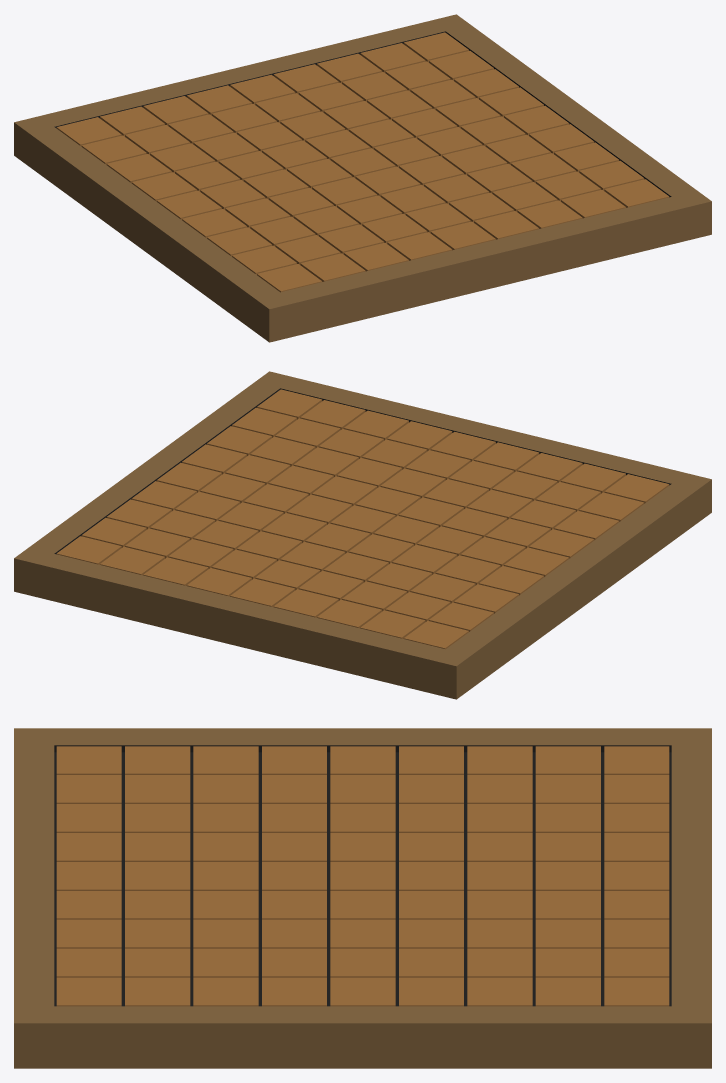
File: board.dae
3 views of the same model, one above another, from view 1: azimuth 30°, elevation 25°; view 2: azimuth 150°, elevation 25°; view 3: azimuth 270°, elevation 25° (orthographic). The views are drawn at different scales.
Visible parts, largest first — view 1: Cube_002; view 2: Cube_002; view 3: Cube_002.
Part boxes in pixels (x1,y1,x2,y2): Cube_002: (14, 14, 711, 342); Cube_002: (14, 371, 711, 699); Cube_002: (14, 728, 711, 1068).
Size of the model in its own units: 5.24 by 5.24 by 0.3774.
